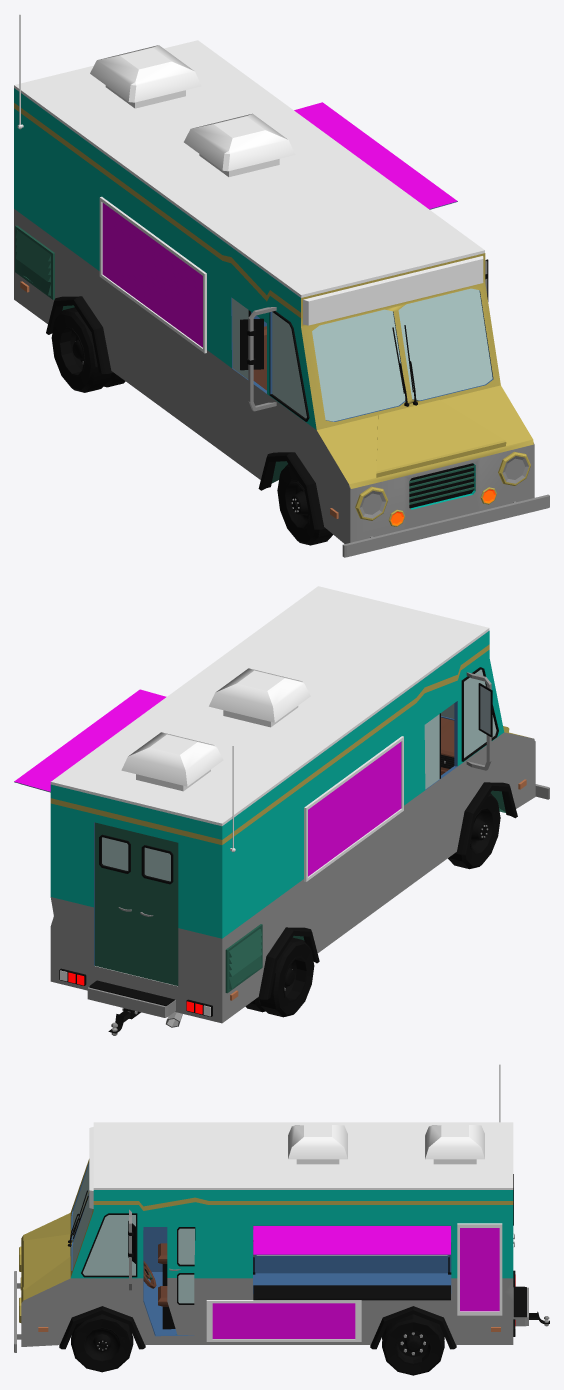
File: Food Truck 1.fbx
3 views of the same model, one above another, from view 1: azimuth 30°, elevation 25°; view 2: azimuth 150°, elevation 25°; view 3: azimuth 270°, elevation 25° (orthographic). The views are drawn at different scales.
Parts seen in each view (by area): view 1: FoodTruck1; view 2: FoodTruck1; view 3: FoodTruck1.
Part boxes in pixels (x1,y1,x2,y2): FoodTruck1: (14, 14, 549, 557); FoodTruck1: (14, 586, 549, 1035); FoodTruck1: (14, 1064, 549, 1375).
Bounding box in the file's own units: 3.83 × 4.06 × 8.15.
